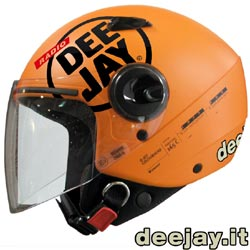helmet: (22, 10, 249, 199)
